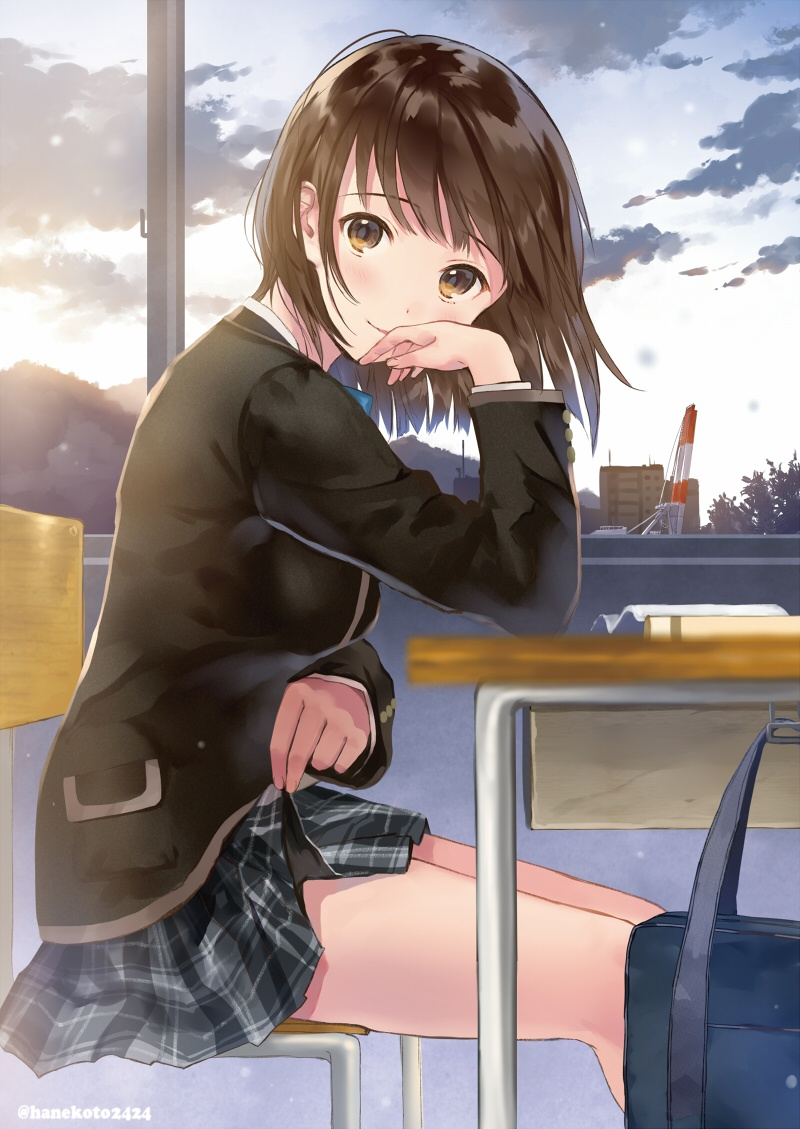纸片人正脸: (248, 32, 583, 370)
